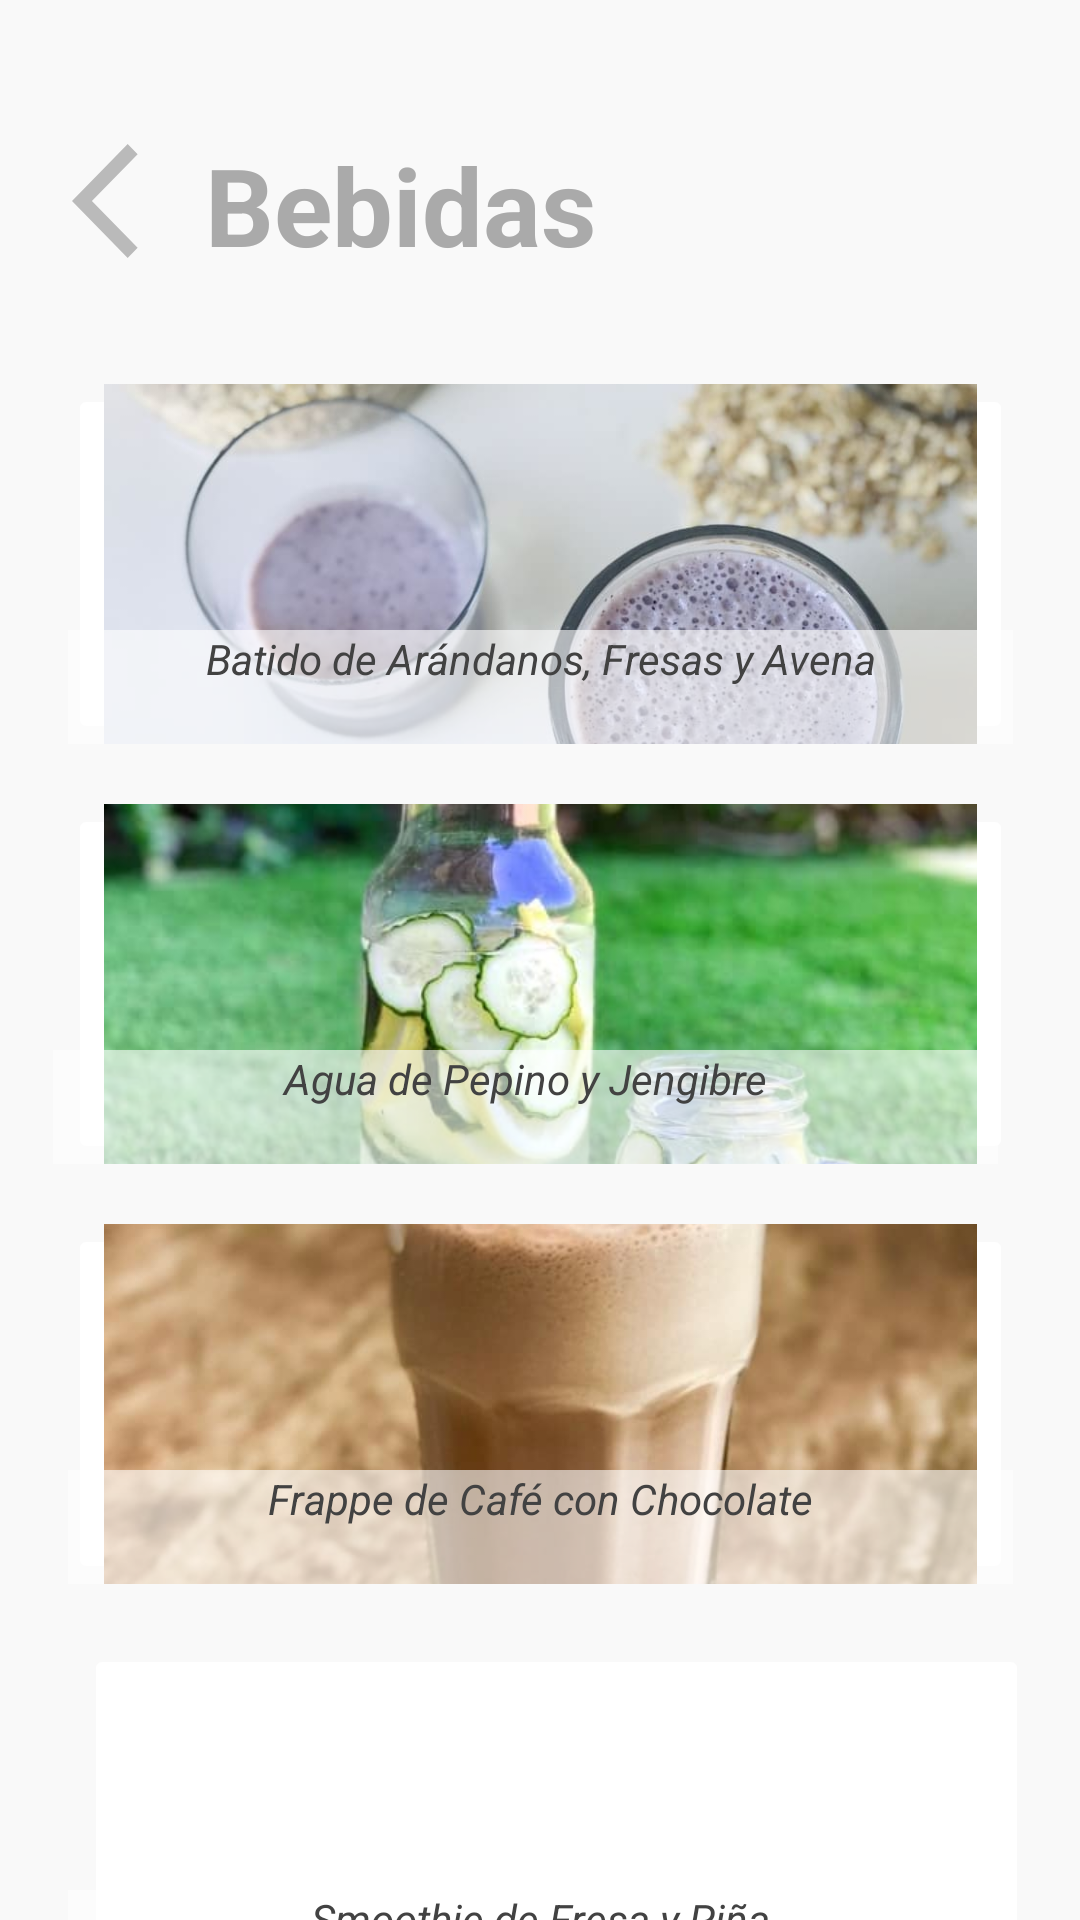

Named icons in this screenshot (1080px×1920px) and their bounding boxes, [x1,y1,x2,y2]:
flecha: [72,144,137,258]
